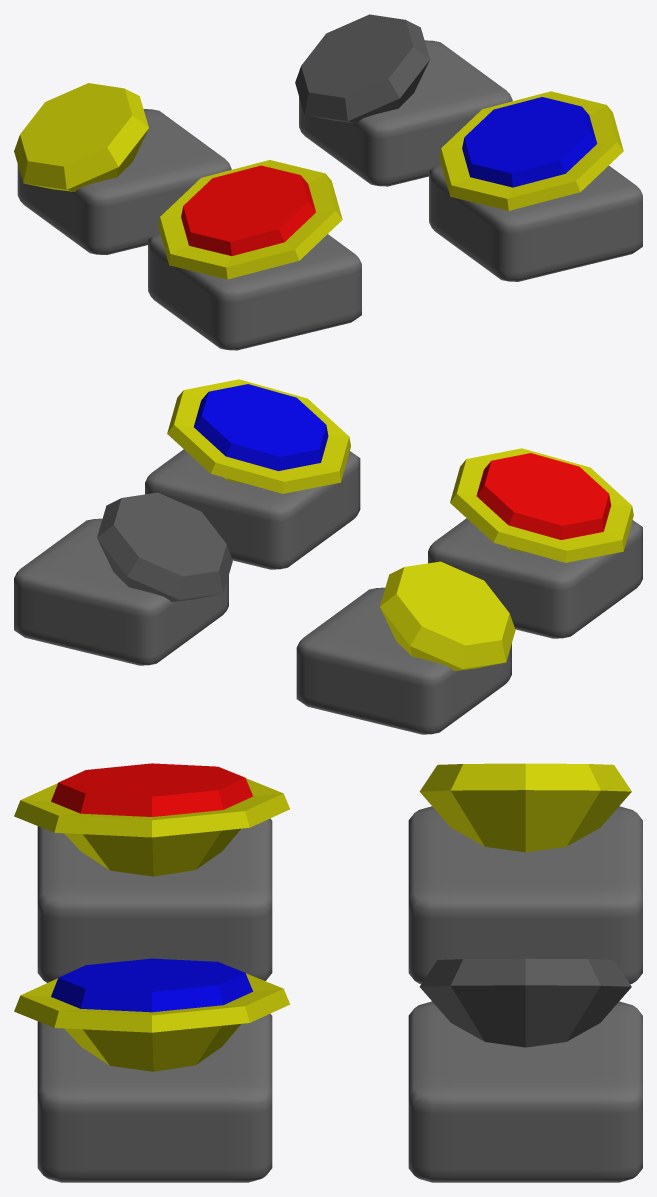
File: Joias_Aneis.fbx
3 views of the same model, one above another, from view 1: azimuth 30°, elevation 25°; view 2: azimuth 150°, elevation 25°; view 3: azimuth 270°, elevation 25° (orthographic). The views are drawn at different scales.
Visible parts, largest first — view 1: pCone2, pCone4, pCube16, pCube15, pCube14, pCube17, pCone3, pCone1; view 2: pCube14, pCube17, pCone4, pCone2, pCube16, pCube15, pCone1, pCone3; view 3: pCube17, pCube16, pCube14, pCube15, pCone4, pCone2, pCone1, pCone3.
Boxes of the visible parts, box(x1,y1,x2,y2) form: pCone2: box(158, 160, 342, 279); pCone4: box(439, 91, 623, 210); pCube16: box(429, 163, 642, 281); pCube15: box(148, 232, 361, 350); pCube14: box(17, 109, 231, 254); pCube17: box(299, 40, 512, 186); pCone3: box(295, 14, 429, 123); pCone1: box(14, 83, 148, 191); pCube14: box(296, 587, 511, 734); pCube17: box(14, 518, 228, 665); pCone4: box(167, 379, 350, 493); pCone2: box(450, 448, 633, 562); pCube16: box(145, 449, 360, 569); pCube15: box(428, 518, 642, 638); pCone1: box(380, 561, 515, 670); pCone3: box(97, 492, 232, 601); pCube17: box(408, 1001, 642, 1182); pCube16: box(37, 1013, 272, 1182); pCube14: box(408, 806, 642, 984); pCube15: box(37, 818, 272, 982); pCone4: box(14, 958, 290, 1071); pCone2: box(14, 763, 289, 876); pCone1: box(419, 763, 631, 852); pCone3: box(419, 958, 631, 1047).
Size of the model in its own units: 420 by 110 by 351.
